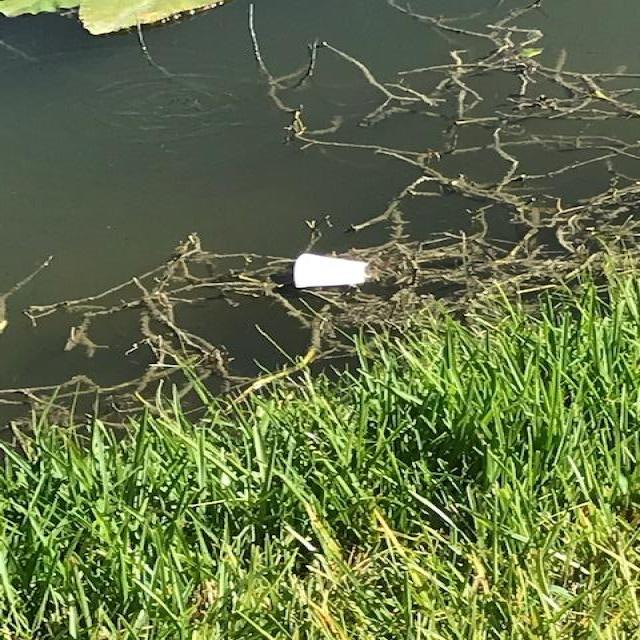litter: (292, 252, 369, 288)
